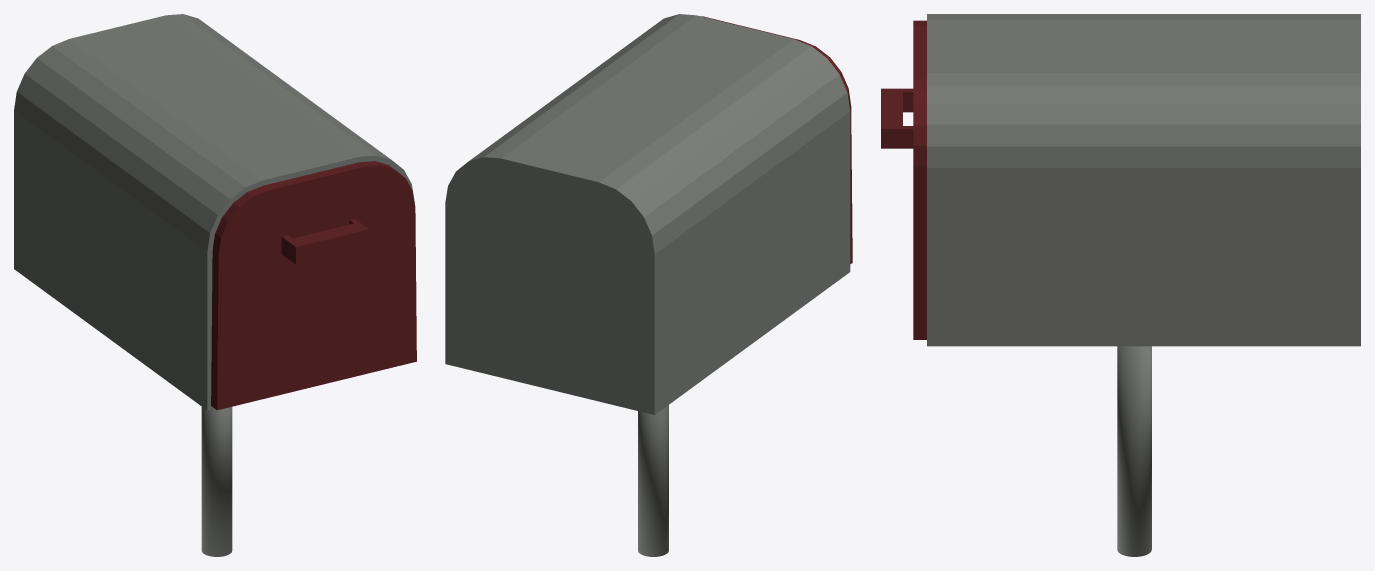
Rendered from PostaKutusu.fbx.
3 views of the same model, side by side, from view 1: azimuth 30°, elevation 25°; view 2: azimuth 150°, elevation 25°; view 3: azimuth 270°, elevation 25° (orthographic). The views are drawn at different scales.
Parts seen in each view (by area): view 1: Posta, Kapak; view 2: Posta, Kapak; view 3: Posta, Kapak.
Part boxes in pixels (left/top/right/bottom): Posta: left=14, top=14, right=412, bottom=556; Kapak: left=211, top=161, right=416, bottom=410; Posta: left=445, top=14, right=850, bottom=556; Kapak: left=701, top=16, right=852, bottom=263; Posta: left=927, top=14, right=1360, bottom=556; Kapak: left=881, top=20, right=926, bottom=339.
Size of the model in its own units: 47.69 by 98.83 by 85.28.
